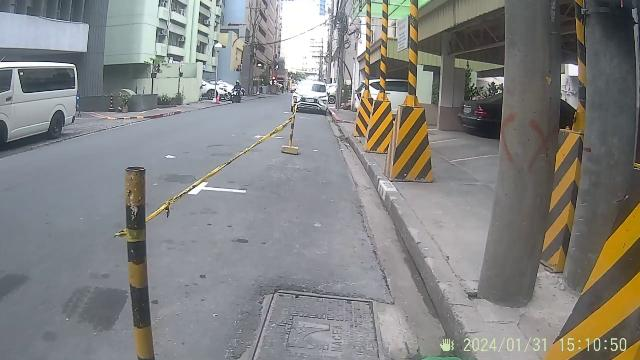construction_materials: (354, 0, 436, 188), (214, 90, 223, 104)
lamp_post: (211, 38, 225, 106)
